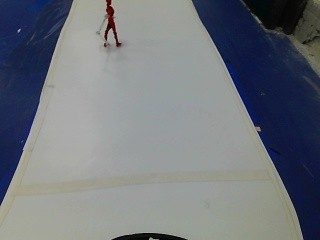pedestrian: (95, 0, 128, 55)
